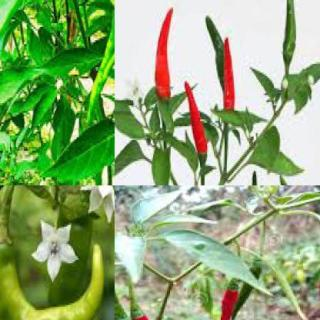green_chilli: (0, 220, 108, 319), (0, 219, 61, 319), (84, 0, 113, 132), (228, 263, 268, 319), (204, 16, 224, 88), (285, 0, 297, 68), (246, 169, 262, 185)
